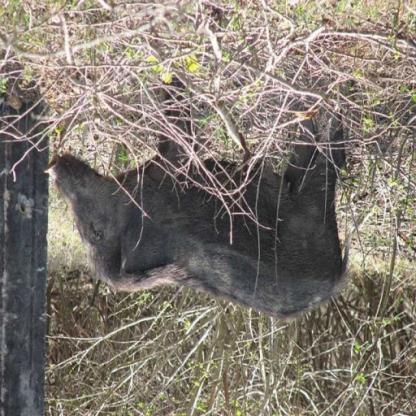boar: (56, 82, 362, 318)
